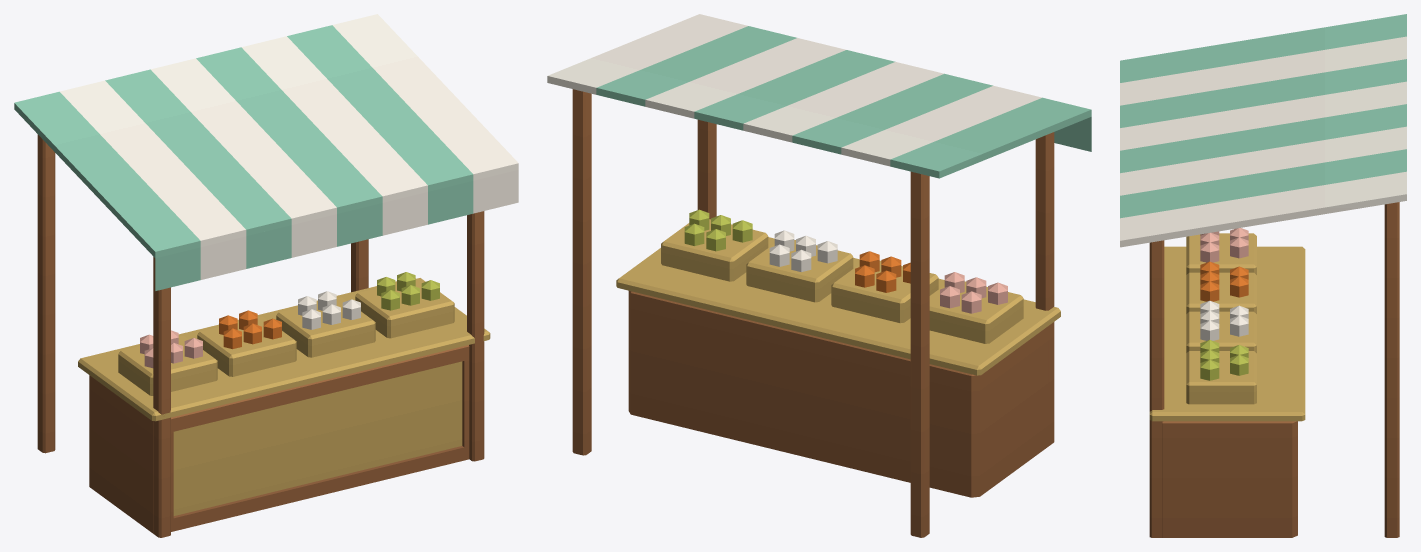
File: market_stall_2.glb
The picture shows the model from 3 angles, left to right: view 1: azimuth 30°, elevation 25°; view 2: azimuth 150°, elevation 25°; view 3: azimuth 270°, elevation 25°; orthographic projection. The views are drawn at different scales.
Visible parts, largest first — view 1: market_stall_2; view 2: market_stall_2; view 3: market_stall_2.
Boxes of the visible parts, x1,y1,x2,y2 form: market_stall_2: (14,14,518,537); market_stall_2: (547,14,1091,537); market_stall_2: (1120,14,1406,537).
Size of the model in its own units: 2.9 by 2.65 by 1.95.
Materials: 1 (1 with a texture image).
